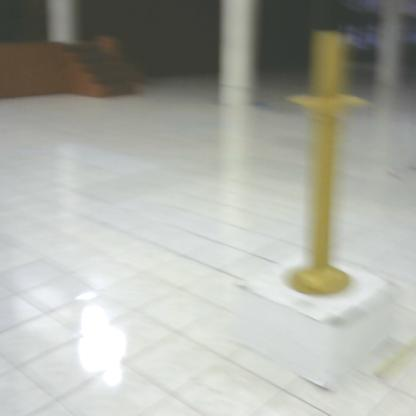pole: (278, 22, 373, 309)
